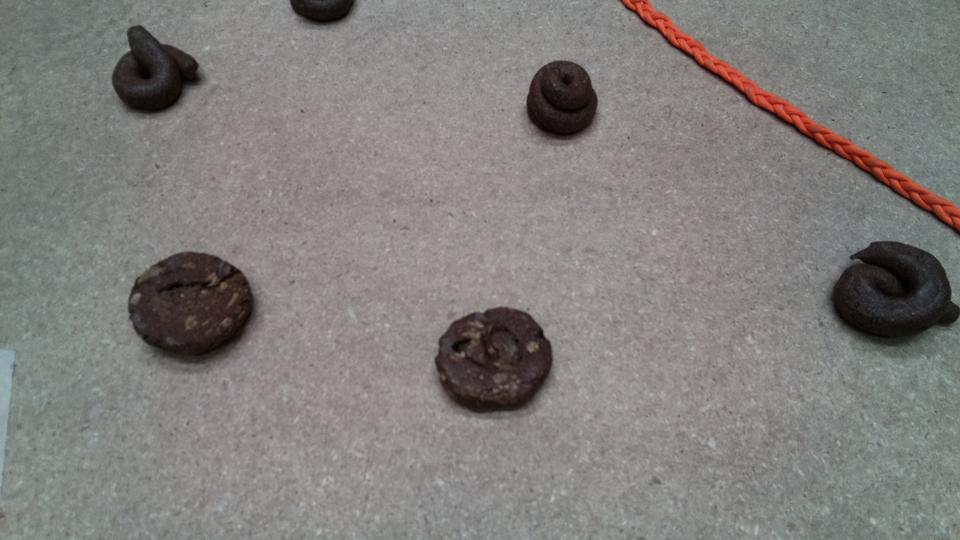poop: (132, 251, 255, 354), (435, 307, 553, 411), (836, 243, 960, 339), (111, 27, 200, 110), (530, 61, 595, 138)
rope: (815, 131, 874, 169), (759, 99, 814, 131), (622, 1, 673, 34), (711, 65, 760, 98), (873, 169, 922, 197), (672, 32, 712, 66), (922, 197, 960, 225)
